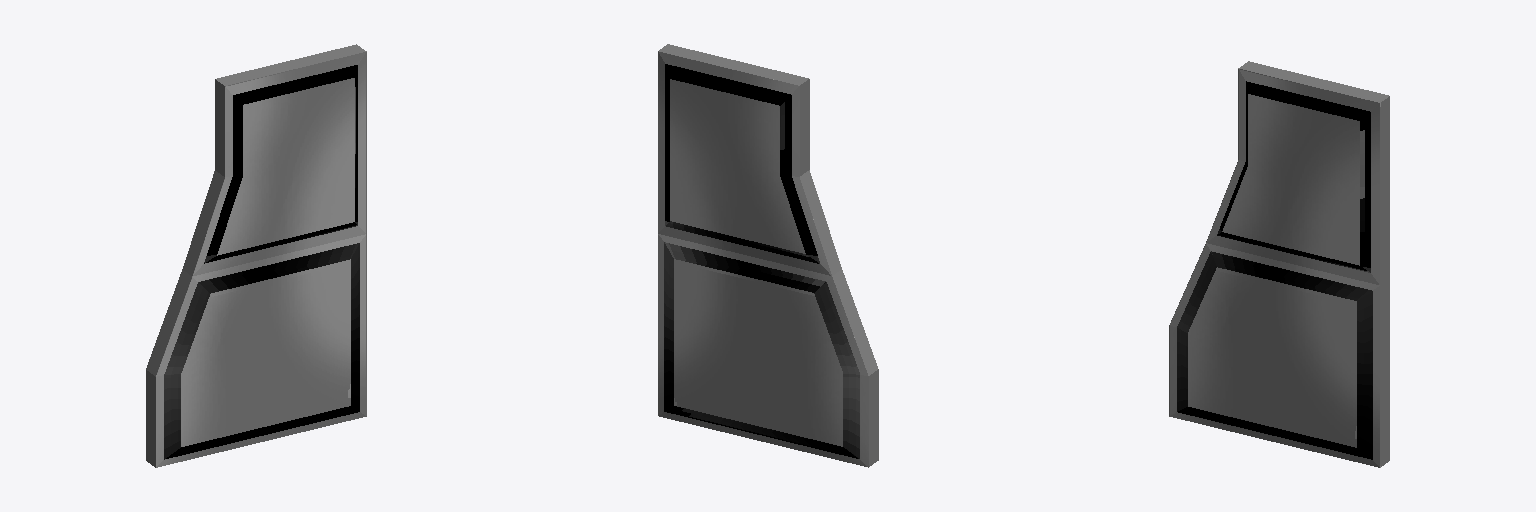
3 views of the same model, side by side, from view 1: azimuth 30°, elevation 25°; view 2: azimuth 150°, elevation 25°; view 3: azimuth 330°, elevation 25° (orthographic).
Parts seen in each view (by area): view 1: Cube; view 2: Cube; view 3: Cube.
Boxes of the visible parts, <box> form: Cube: <box>146,44,366,467</box>; Cube: <box>658,44,878,467</box>; Cube: <box>1169,61,1389,467</box>.
Size of the model in its own units: 1.21 by 2 by 0.1868.
Materials: 1 (1 with a texture image).